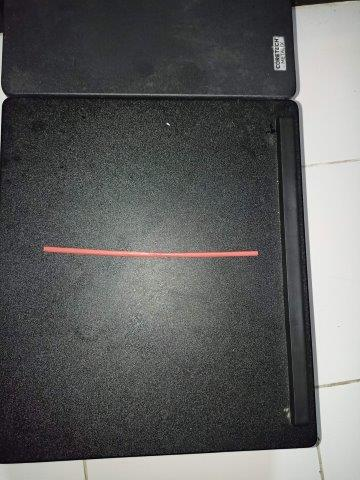sedotan: (44, 246, 258, 257)
